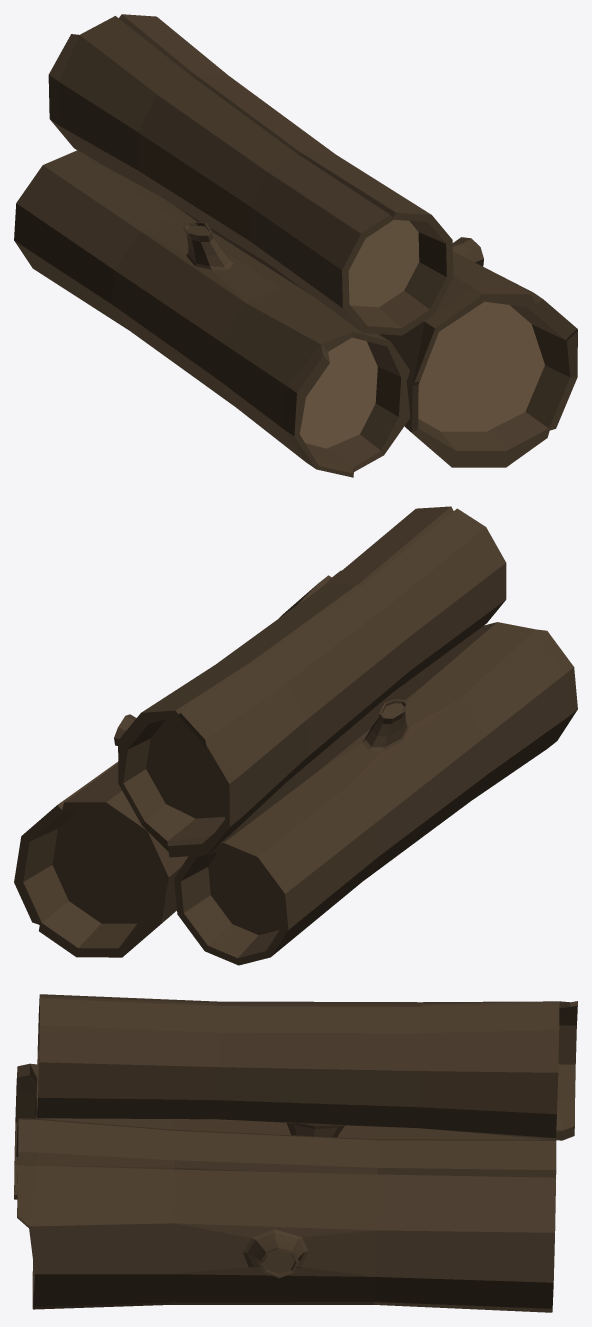
The model's file is Madera.fbx.
The picture shows the model from 3 angles, top to bottom: view 1: azimuth 30°, elevation 25°; view 2: azimuth 150°, elevation 25°; view 3: azimuth 270°, elevation 25°; orthographic projection. The views are drawn at different scales.
Visible parts, largest first — view 1: Tronco_1, Tronco_2, Tronco_3; view 2: Tronco_1, Tronco_2, Tronco_3; view 3: Tronco_3, Tronco_1, Tronco_2.
Part boxes in pixels (x1=…): Tronco_1: x1=48, y1=14, x2=453, y2=335; Tronco_2: x1=14, y1=150, x2=410, y2=477; Tronco_3: x1=176, y1=206, x2=577, y2=467; Tronco_1: x1=118, y1=506, x2=506, y2=857; Tronco_2: x1=174, y1=622, x2=577, y2=965; Tronco_3: x1=14, y1=570, x2=341, y2=957; Tronco_3: x1=16, y1=1118, x2=556, y2=1312; Tronco_1: x1=36, y1=994, x2=577, y2=1140; Tronco_2: x1=14, y1=1063, x2=547, y2=1199.
Bounding box in the file's own units: 1.38 × 1.15 × 2.22.
